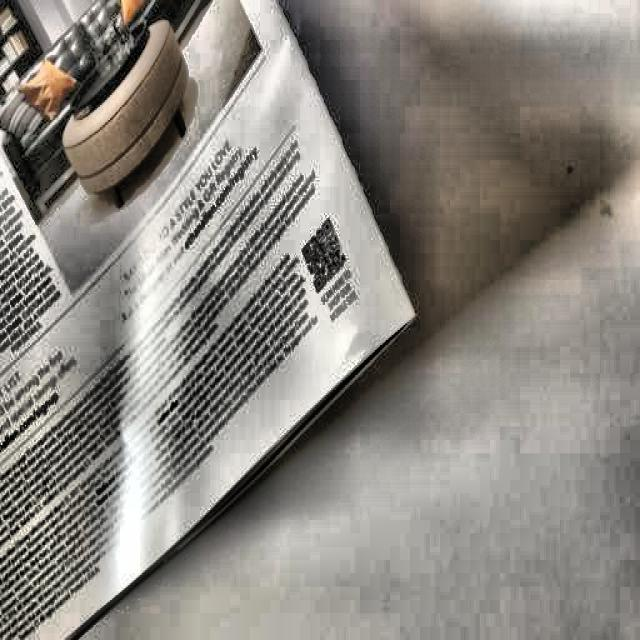paper: (0, 0, 406, 608)
